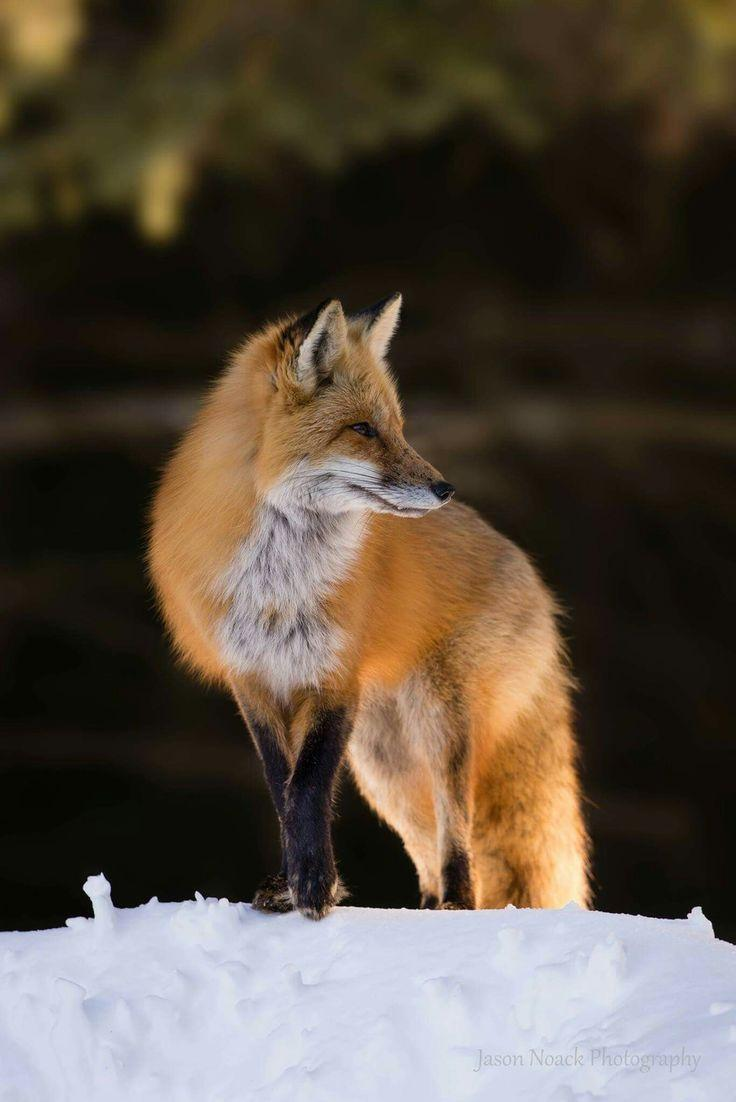fox: (152, 285, 602, 919)
